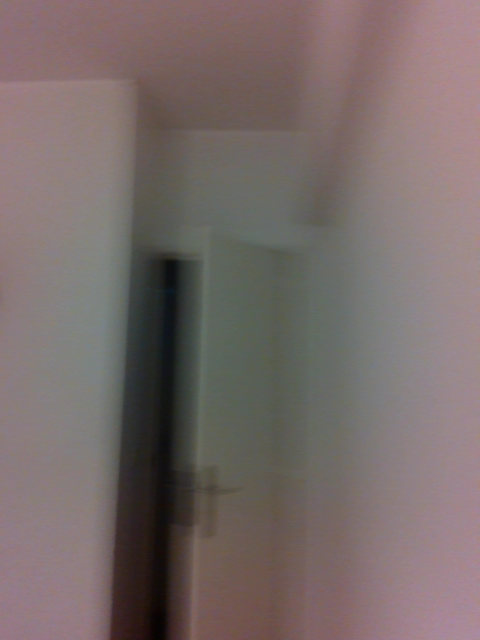semi: (121, 234, 309, 639)
